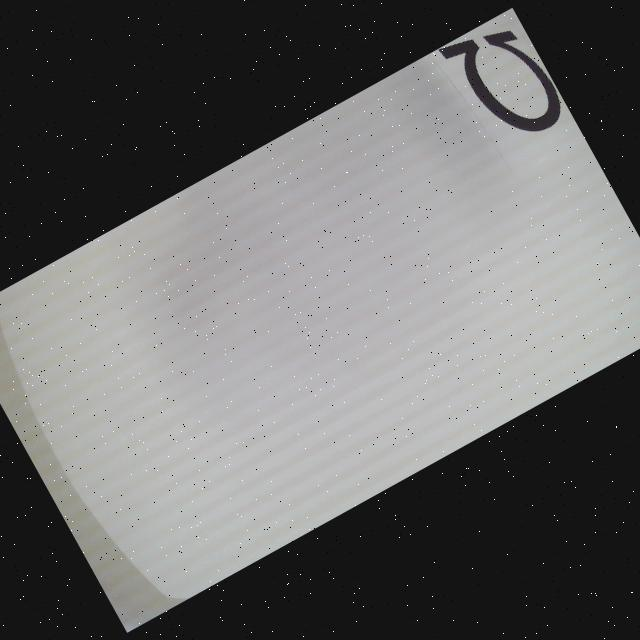OMEGA: (438, 8, 570, 156)
